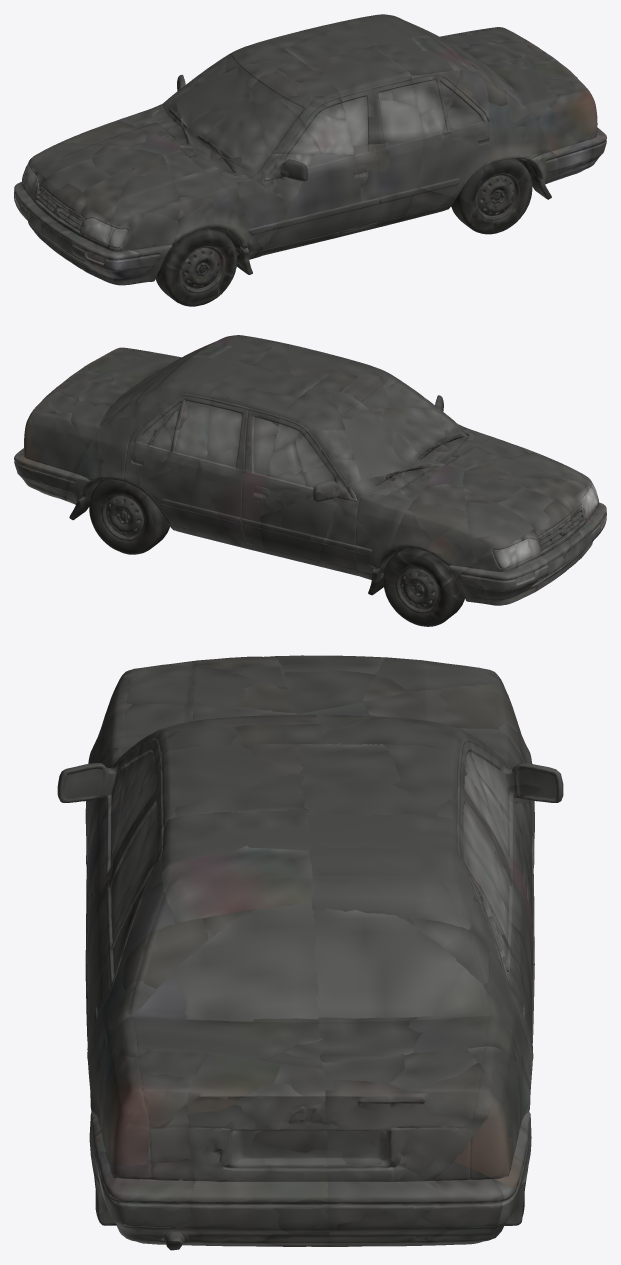
Rendered from car_sedan_light_q1.glb.
The picture shows the model from 3 angles, top to bottom: view 1: azimuth 30°, elevation 25°; view 2: azimuth 150°, elevation 25°; view 3: azimuth 270°, elevation 25°; orthographic projection. The views are drawn at different scales.
Bounding box in the file's own units: 1.9 × 0.5968 × 0.8109.
1 material, 1 textured.
